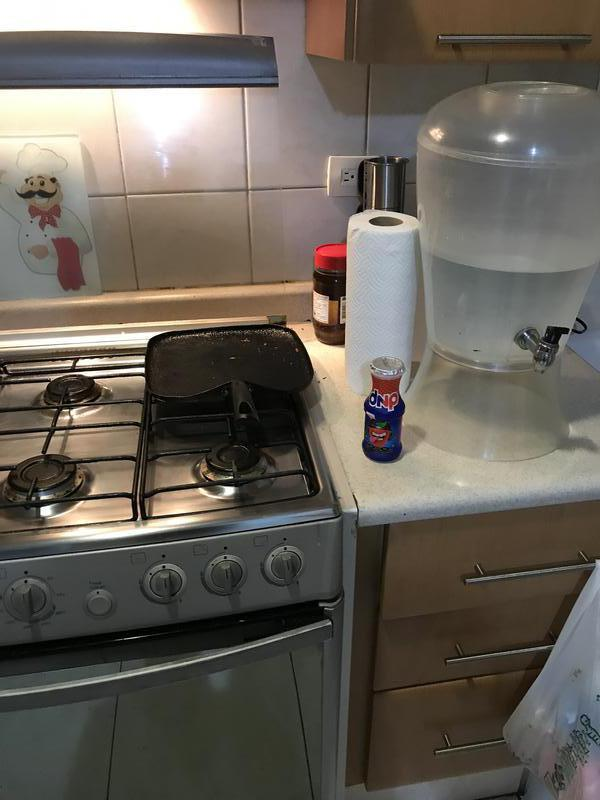danup: (362, 355, 407, 463)
